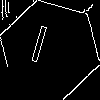I: (25, 25, 51, 73)
